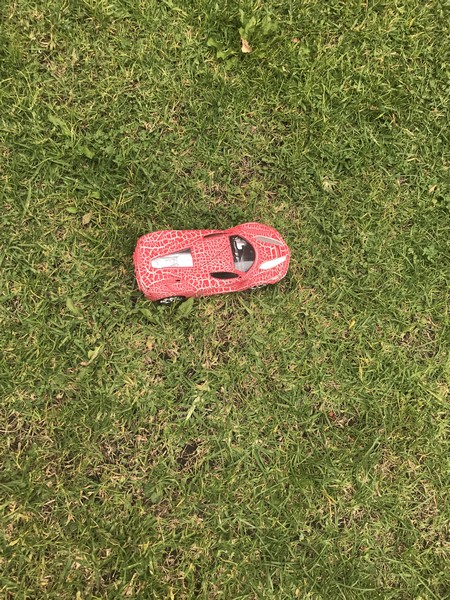RC: (132, 221, 294, 305)
